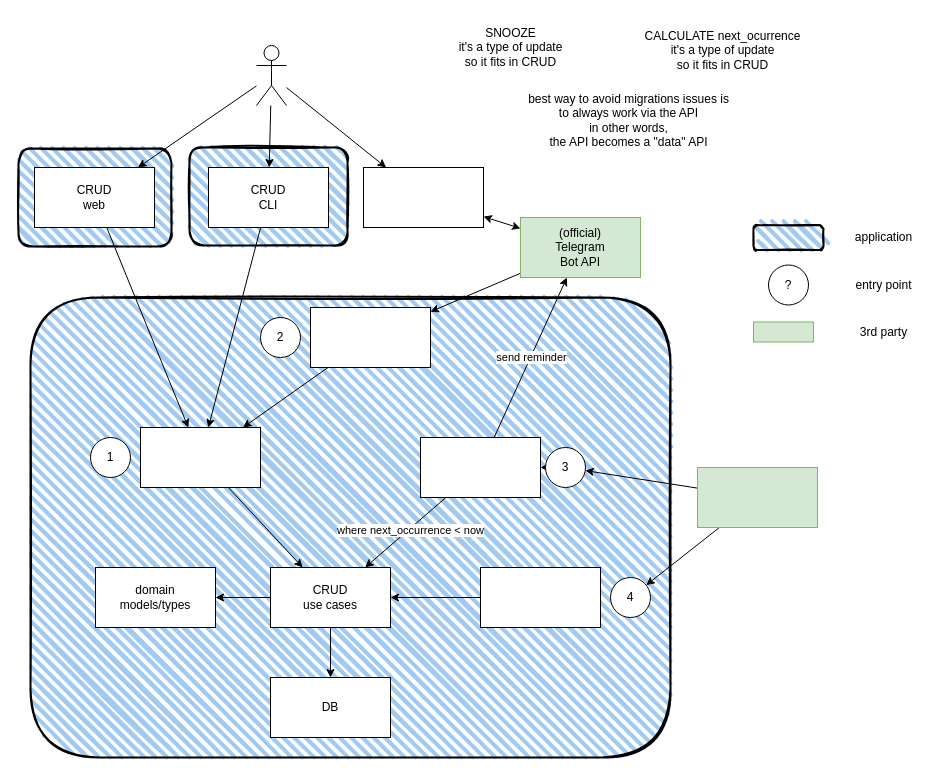
Some shapes in this 940 by 775 pixel diagram are drawn without their labels. Here are the shapes that lost their labels. From the top down, the centre of each, then its label:
the point at 423,197: Telegram bot
the point at 370,337: oye Telegram Bot API
the point at 200,457: CRUD API (long running)
the point at 480,467: reminder dispatcher (cron: every min)
the point at 757,497: k8s CronJob
the point at 540,597: next_ocurrence calculator (cron: every min)
